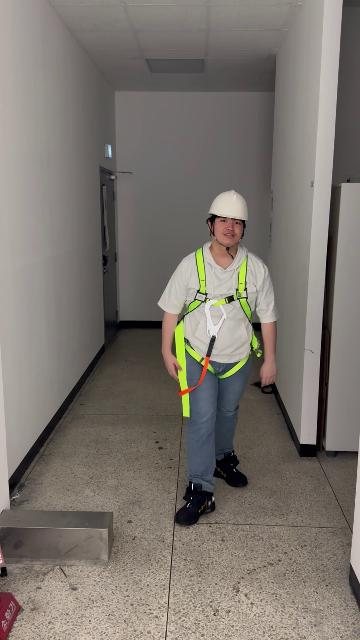helmet_worn: (206, 188, 249, 221)
shoe_worn: (174, 482, 215, 524), (213, 450, 247, 487)
vest_worn: (170, 249, 262, 413)
